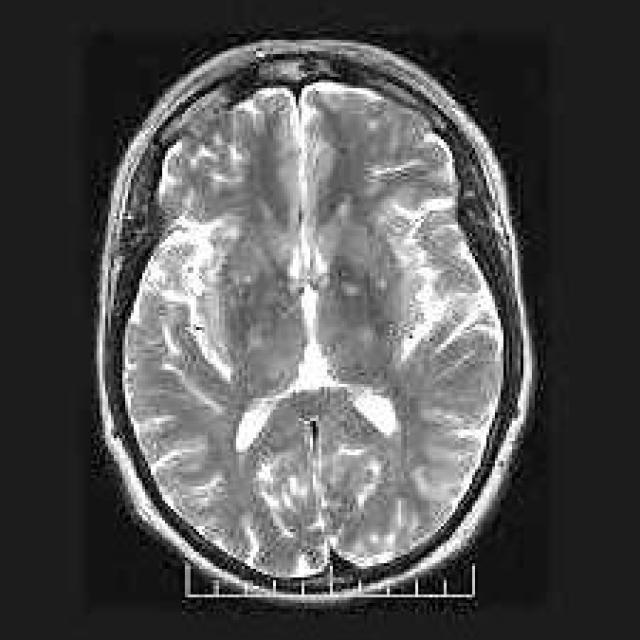notumor: (97, 40, 535, 597)
